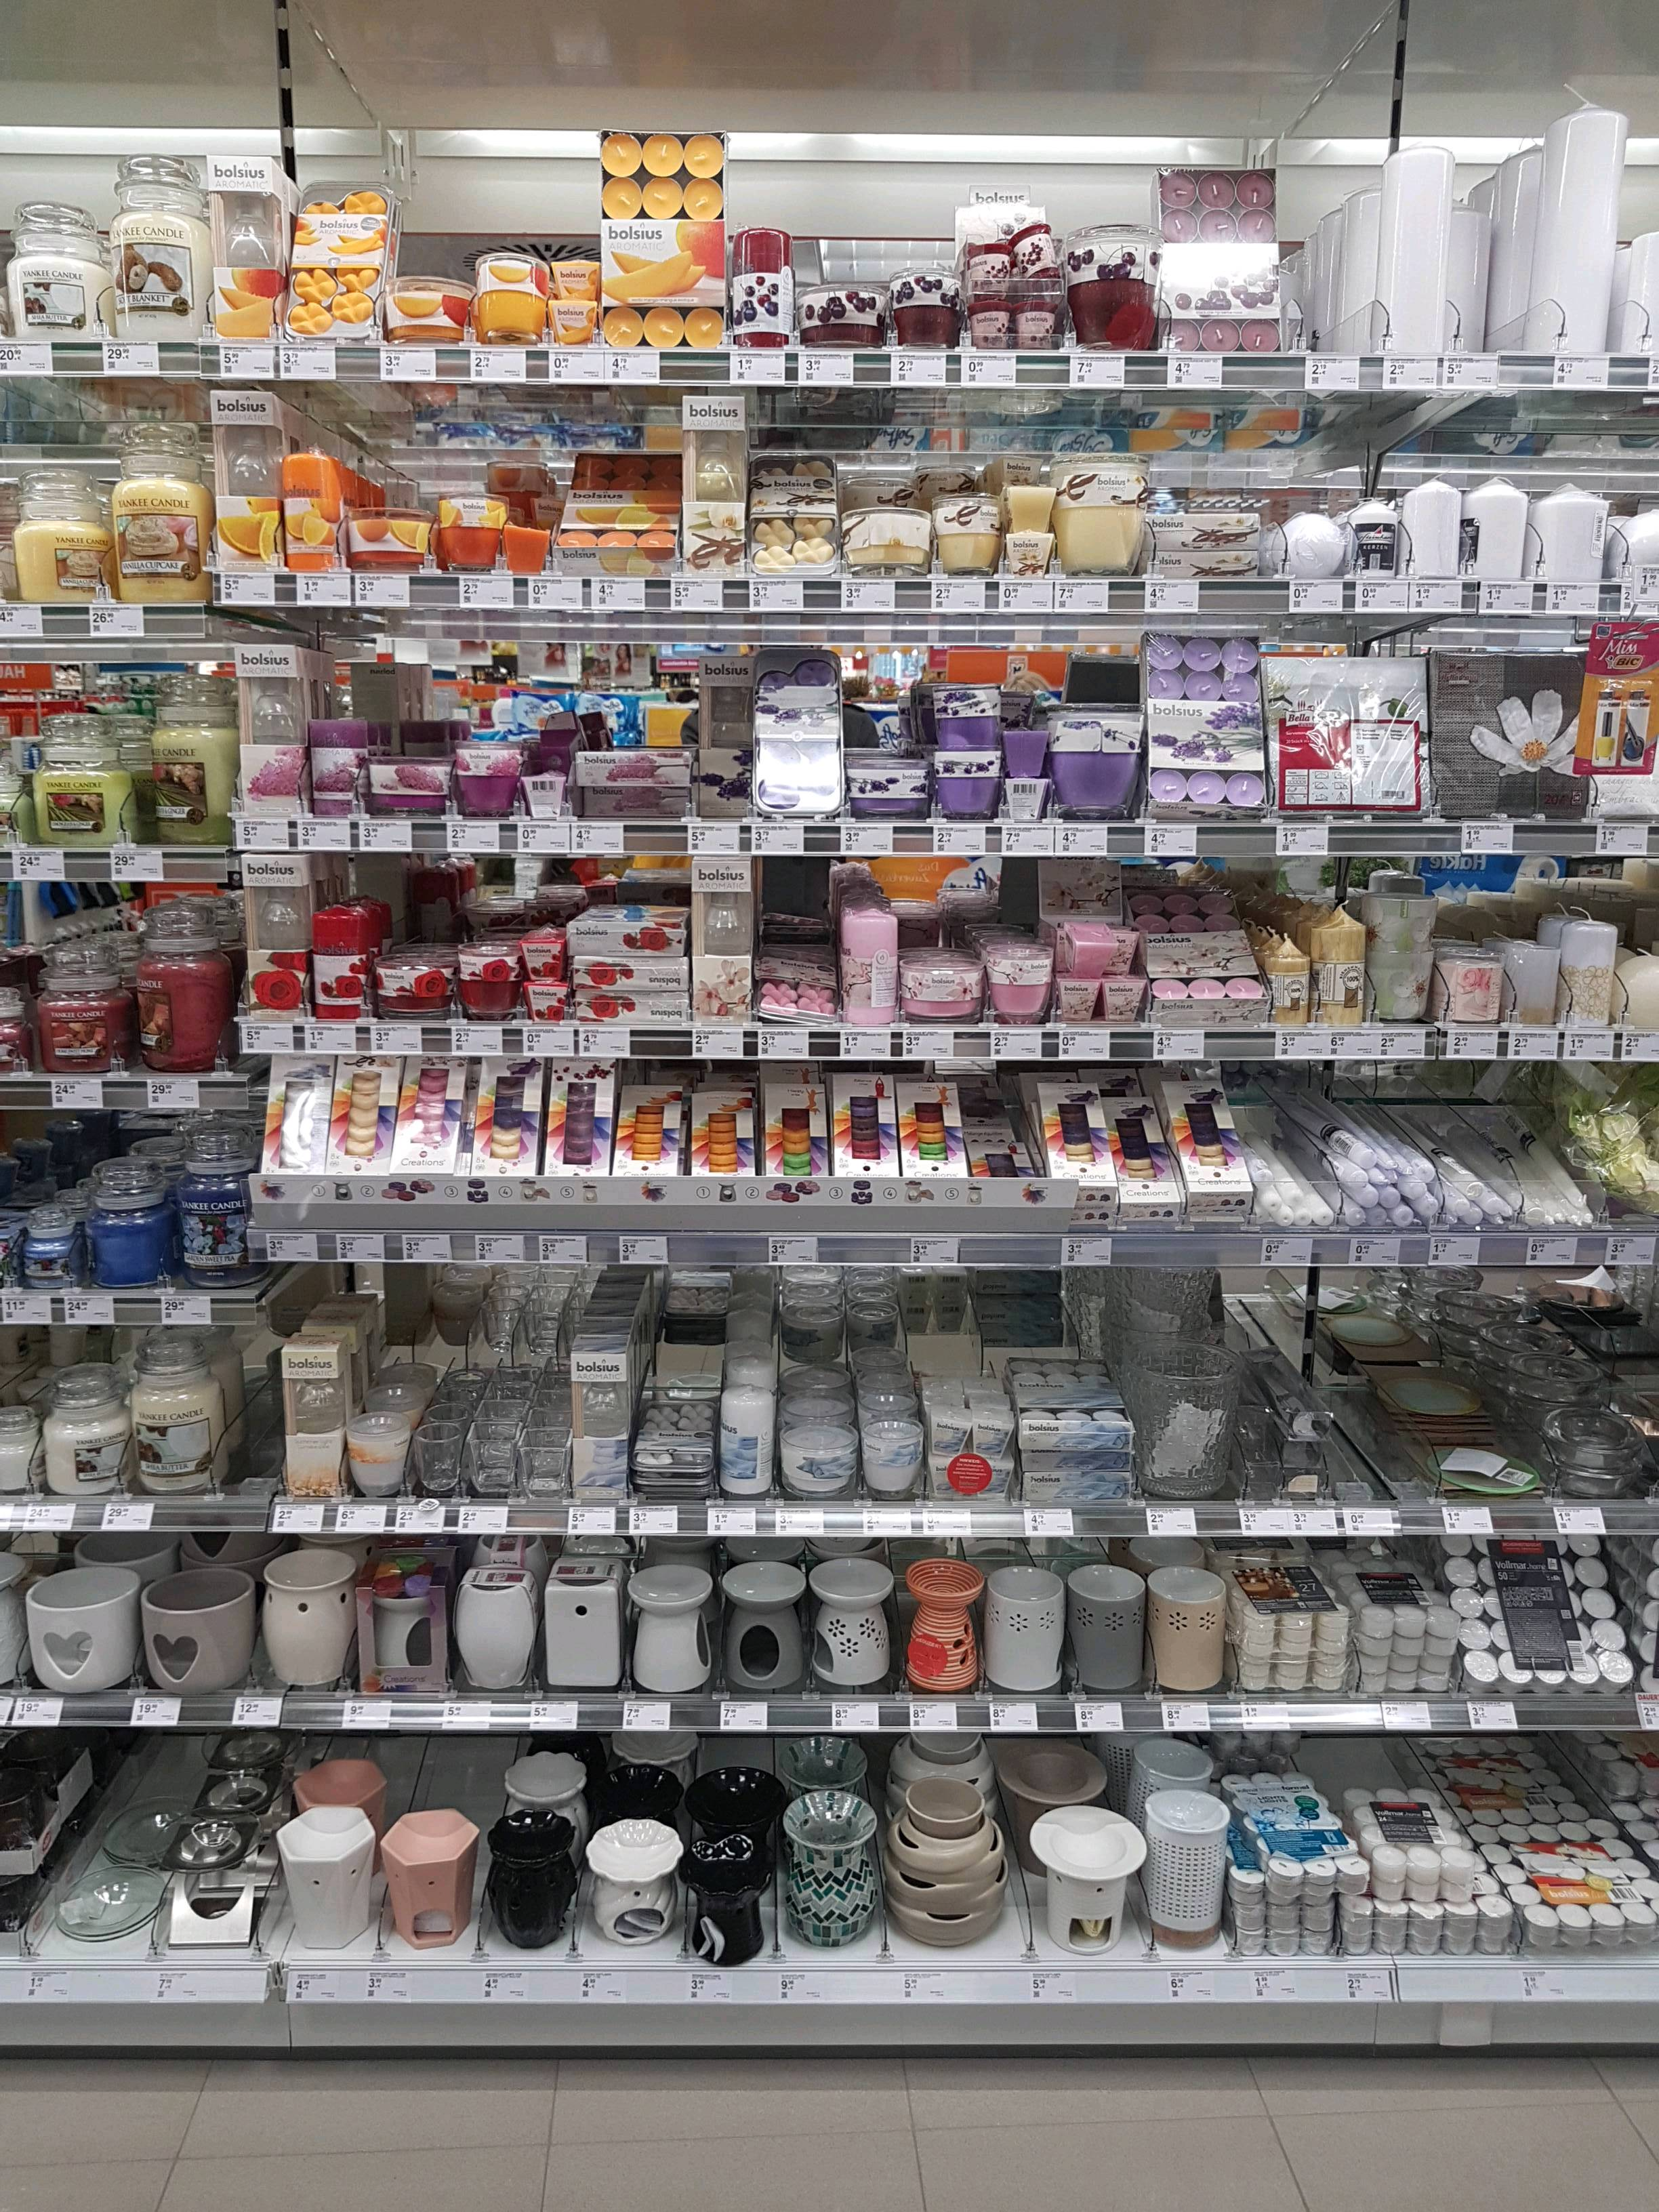product: (1438, 650, 1581, 824), (1267, 660, 1425, 817), (1544, 92, 1617, 378), (28, 691, 146, 866), (892, 1791, 1012, 1961), (1377, 143, 1450, 383), (110, 157, 202, 347), (1141, 1334, 1243, 1507), (125, 1327, 228, 1496), (113, 404, 197, 604), (756, 639, 847, 820), (385, 1803, 476, 1973), (10, 453, 113, 603), (270, 1824, 383, 1958), (143, 902, 234, 1069), (1035, 1808, 1140, 1949), (784, 1811, 884, 1959), (28, 1573, 146, 1693), (260, 1552, 349, 1709), (1053, 442, 1141, 599), (293, 181, 378, 341), (3, 200, 99, 341), (35, 934, 136, 1066), (493, 1806, 582, 1952), (150, 678, 225, 848), (146, 1573, 249, 1696), (235, 643, 305, 824), (211, 388, 281, 570), (593, 1822, 681, 1959), (1152, 1784, 1220, 1961), (355, 1561, 444, 1696), (453, 1566, 535, 1712), (239, 848, 308, 1017), (181, 1113, 251, 1280), (202, 153, 270, 324), (1009, 1360, 1134, 1453), (85, 1160, 178, 1285), (685, 1831, 772, 1963), (981, 1573, 1068, 1703), (624, 1566, 704, 1707), (40, 1366, 125, 1498), (1584, 624, 1659, 772), (685, 860, 751, 1028), (1176, 1080, 1246, 1238), (720, 1562, 805, 1691), (545, 1562, 622, 1700), (1530, 477, 1608, 611), (1363, 881, 1422, 1057), (906, 1552, 979, 1693), (749, 446, 835, 566), (1066, 232, 1157, 345), (1070, 1569, 1148, 1700), (1046, 705, 1138, 815), (1148, 1566, 1229, 1691), (260, 1052, 326, 1200), (817, 1562, 894, 1689), (1042, 1078, 1108, 1224), (685, 401, 739, 578), (549, 1049, 608, 1205), (481, 1045, 538, 1205), (335, 1045, 390, 1209), (286, 1331, 340, 1500), (831, 1078, 894, 1219), (1438, 1437, 1537, 1526), (701, 646, 751, 817), (1462, 463, 1527, 596), (903, 1075, 962, 1217), (760, 1080, 826, 1207), (403, 1049, 457, 1197), (575, 1348, 624, 1505), (728, 221, 789, 345), (831, 902, 896, 1019), (1403, 470, 1459, 604), (314, 899, 371, 1024), (1567, 895, 1615, 1040), (477, 242, 544, 348), (54, 1876, 153, 1946), (1312, 899, 1363, 1031), (1114, 1092, 1162, 1228), (282, 456, 340, 571), (620, 1089, 680, 1200), (692, 1096, 753, 1202), (1377, 1359, 1476, 1421), (859, 1416, 924, 1512), (634, 1399, 711, 1477), (781, 1426, 861, 1501), (389, 268, 464, 347), (725, 1388, 775, 1503), (166, 1817, 251, 1885), (375, 953, 460, 1021), (842, 510, 929, 577), (934, 489, 1000, 573), (796, 289, 882, 354), (1274, 500, 1342, 580), (350, 1409, 406, 1507), (889, 265, 957, 341), (1434, 946, 1499, 1026), (307, 721, 361, 815), (368, 759, 448, 822), (1345, 493, 1394, 596), (460, 930, 514, 1022), (753, 956, 823, 1028), (934, 749, 1000, 824), (1452, 193, 1481, 361), (906, 956, 979, 1022), (924, 678, 997, 744), (1546, 1413, 1642, 1463), (1513, 935, 1560, 1038), (927, 1399, 974, 1498), (453, 732, 509, 815), (21, 1205, 80, 1284), (1516, 1352, 1601, 1406), (443, 489, 493, 578), (352, 510, 423, 573), (575, 749, 687, 789), (1283, 1353, 1337, 1435), (1326, 1303, 1417, 1352), (566, 913, 681, 951), (992, 946, 1049, 1021), (1615, 942, 1659, 1038), (1145, 514, 1258, 550), (1269, 927, 1310, 1024), (852, 756, 925, 810), (974, 1137, 1032, 1205), (467, 1423, 518, 1500), (570, 958, 685, 991), (573, 993, 687, 1024), (978, 1406, 1012, 1507), (1141, 552, 1241, 585), (197, 1766, 267, 1813), (1478, 1320, 1577, 1352), (1441, 1284, 1535, 1317), (582, 792, 680, 824), (413, 1426, 462, 1489), (1567, 1463, 1642, 1503), (518, 1430, 563, 1494), (204, 1735, 293, 1766), (1066, 927, 1115, 977), (518, 770, 565, 820), (1009, 481, 1053, 533), (842, 475, 913, 507), (964, 246, 1009, 294), (549, 303, 598, 347), (1012, 300, 1056, 347), (1002, 728, 1044, 777), (1016, 228, 1053, 280), (552, 256, 596, 300), (1006, 535, 1047, 580), (917, 460, 978, 489), (1230, 766, 1267, 815), (641, 136, 683, 178), (502, 528, 544, 570), (521, 939, 561, 982), (1009, 782, 1047, 827), (974, 296, 1007, 348), (500, 453, 528, 514), (645, 307, 683, 350), (634, 1480, 711, 1501), (603, 132, 638, 178), (1284, 1467, 1331, 1500), (1155, 970, 1188, 1015), (1056, 977, 1094, 1015), (603, 307, 641, 345), (525, 988, 565, 1024), (1105, 981, 1140, 1022), (603, 178, 638, 219), (1166, 317, 1202, 355), (1188, 773, 1223, 813), (1206, 314, 1241, 354), (1408, 1841, 1439, 1885), (688, 129, 716, 178), (1145, 632, 1180, 671), (1148, 765, 1183, 803), (1159, 171, 1194, 209), (1220, 637, 1260, 671), (1199, 171, 1232, 211), (1159, 211, 1199, 244), (1182, 634, 1216, 671), (1199, 211, 1236, 246), (1244, 314, 1277, 352), (1499, 1644, 1527, 1689), (999, 453, 1044, 481), (1190, 970, 1225, 1005), (1148, 671, 1183, 705), (1227, 974, 1260, 1010), (685, 181, 718, 218), (645, 181, 678, 218), (1237, 171, 1269, 209), (688, 310, 720, 347), (1220, 674, 1258, 704), (1595, 1651, 1629, 1683), (1588, 1616, 1624, 1646), (1237, 211, 1270, 242), (1577, 1583, 1612, 1613), (1466, 1648, 1495, 1683), (1445, 1841, 1469, 1883), (1188, 671, 1220, 702), (1281, 1439, 1321, 1463), (1241, 1602, 1279, 1627), (1127, 888, 1162, 914), (1202, 916, 1243, 939), (1574, 1655, 1596, 1695), (1459, 1616, 1488, 1646), (638, 531, 680, 552), (1516, 1106, 1537, 1148), (1567, 1534, 1600, 1561), (1377, 1848, 1401, 1883), (1230, 1862, 1265, 1886), (610, 477, 638, 507), (613, 449, 641, 479), (1485, 1134, 1513, 1163), (1134, 916, 1169, 939), (1270, 1930, 1298, 1958), (1302, 1905, 1328, 1935), (1162, 892, 1194, 916), (1117, 935, 1138, 972), (596, 531, 633, 552), (1408, 1902, 1439, 1926), (1492, 1862, 1525, 1885), (1199, 888, 1227, 914), (532, 496, 558, 524), (1455, 1587, 1481, 1615), (1338, 1893, 1368, 1918), (1445, 1559, 1474, 1583), (1581, 1562, 1608, 1587), (1366, 1606, 1391, 1634), (575, 456, 606, 477), (1527, 1905, 1553, 1930), (1394, 1602, 1417, 1630), (1384, 1672, 1413, 1693), (1302, 1933, 1333, 1952), (1244, 1676, 1276, 1695), (1478, 1893, 1502, 1918), (1431, 1609, 1457, 1632), (1445, 1531, 1467, 1557), (1530, 1820, 1558, 1841), (652, 453, 680, 474), (1349, 1202, 1370, 1230), (1541, 1784, 1574, 1801), (561, 531, 591, 550), (1523, 1205, 1546, 1230), (1284, 1599, 1309, 1622), (1495, 1824, 1527, 1841), (1563, 1902, 1589, 1923), (1270, 1858, 1302, 1876), (1373, 1902, 1405, 1919), (1394, 1738, 1425, 1756), (1424, 1676, 1452, 1695), (1530, 1766, 1558, 1785), (1234, 1888, 1262, 1907), (1408, 1930, 1441, 1946), (1406, 1883, 1439, 1898), (575, 477, 605, 495), (1281, 1641, 1310, 1658), (1345, 1784, 1368, 1806), (1345, 1162, 1368, 1184), (1481, 1844, 1506, 1865), (1270, 1905, 1295, 1926), (1349, 1137, 1370, 1162), (1394, 1634, 1420, 1653), (1241, 1933, 1267, 1952), (1448, 1923, 1476, 1940), (1476, 1918, 1504, 1935), (1467, 1202, 1485, 1230), (1323, 1602, 1351, 1620), (1359, 1637, 1387, 1655), (1591, 1902, 1614, 1923), (1408, 1177, 1429, 1200), (1431, 1637, 1455, 1656), (1338, 1858, 1363, 1878), (1563, 1820, 1588, 1839), (648, 477, 673, 496), (1377, 1919, 1401, 1939), (1298, 1205, 1314, 1235), (1244, 1641, 1274, 1656), (1173, 916, 1199, 934), (1241, 1909, 1267, 1926), (1317, 1204, 1335, 1230), (1305, 1858, 1331, 1876), (1373, 1937, 1399, 1954), (1509, 1730, 1527, 1756), (1424, 1658, 1452, 1674), (1277, 1658, 1305, 1674), (1244, 1627, 1276, 1641), (1319, 1651, 1347, 1667), (1321, 1637, 1349, 1653), (1316, 1674, 1340, 1691), (1441, 1885, 1471, 1898), (1391, 1651, 1417, 1667), (1448, 1902, 1469, 1921), (1417, 1157, 1436, 1177), (1452, 1733, 1473, 1752), (1448, 1940, 1471, 1958), (1377, 1885, 1405, 1898), (1523, 1749, 1547, 1764), (1281, 1676, 1305, 1691), (1319, 1623, 1344, 1639), (1473, 1824, 1492, 1843), (1420, 1766, 1441, 1784), (1628, 1905, 1649, 1923), (1241, 1662, 1267, 1676), (1270, 1879, 1291, 1897), (1366, 1655, 1384, 1676), (1349, 1923, 1371, 1939), (1509, 1883, 1532, 1898), (1277, 1202, 1293, 1224), (1359, 1677, 1382, 1693), (1284, 1627, 1309, 1641), (1591, 1817, 1610, 1834), (1480, 1940, 1500, 1956), (1256, 1162, 1272, 1183), (1427, 1740, 1448, 1756), (1483, 1195, 1500, 1212), (1352, 1940, 1368, 1959), (1263, 1195, 1279, 1214), (1466, 1174, 1481, 1193), (1305, 1885, 1326, 1898), (1452, 1191, 1466, 1212), (1481, 1738, 1502, 1752), (1359, 1188, 1375, 1204)
